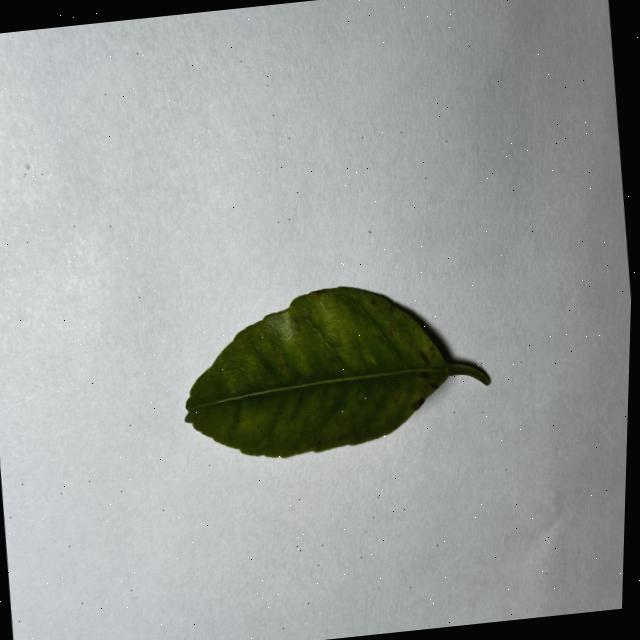greening: (185, 285, 490, 456)
